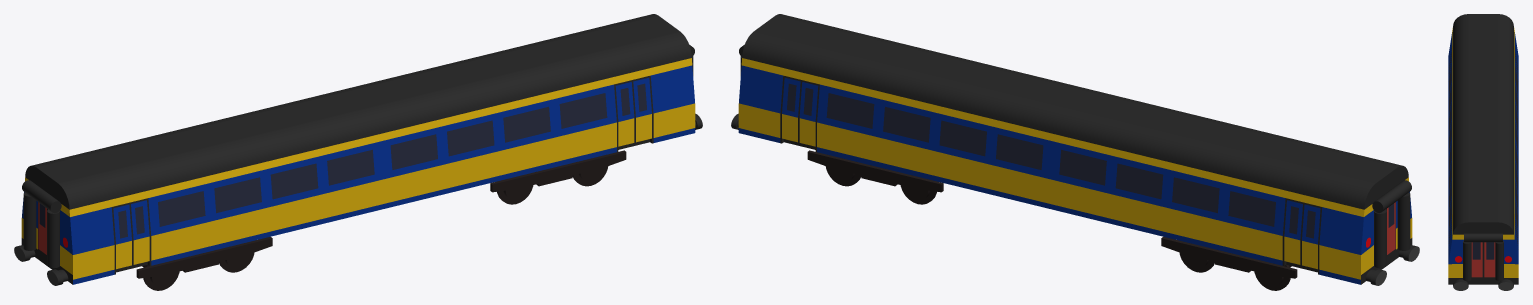
The model's file is poly ICR.obj.
The picture shows the model from 3 angles, left to right: view 1: azimuth 30°, elevation 25°; view 2: azimuth 150°, elevation 25°; view 3: azimuth 270°, elevation 25°; orthographic projection. The views are drawn at different scales.
Visible parts, largest first — view 1: Component_2_ID274, Component_2_ID478, Component_2_ID396, Component_2_ID586, Component_2_ID402, Component_2_ID592, Component_2_ID508, Component_2_ID308, Component_2_ID604, Component_2_ID414, Component_1_ID24, Component_1_ID148 (+21 smaller); view 2: Component_2_ID478, Component_2_ID274, Component_2_ID396, Component_2_ID586, Component_2_ID402, Component_2_ID592, Component_2_ID308, Component_2_ID508, Component_2_ID414, Component_2_ID604, Component_1_ID148, Component_1_ID24 (+21 smaller); view 3: Component_2_ID478, Component_2_ID274, Component_2_ID402, Component_2_ID592, Component_2_ID414, Component_2_ID604, Component_5_ID442, Component_5_ID448, Component_5_ID454, Component_2_ID354, Component_2_ID550, Component_2_ID302 (+21 smaller).
Part boxes in pixels (box(x1,y1,x2,y2)): Component_2_ID274: box(25, 23, 691, 192); Component_2_ID478: box(47, 14, 668, 209); Component_2_ID396: box(384, 122, 616, 203); Component_2_ID586: box(151, 179, 383, 260); Component_2_ID402: box(381, 84, 616, 179); Component_2_ID592: box(148, 141, 383, 235); Component_2_ID508: box(60, 134, 381, 216); Component_2_ID308: box(25, 58, 692, 181); Component_2_ID604: box(60, 207, 114, 254); Component_2_ID414: box(22, 65, 694, 228); Component_1_ID24: box(136, 167, 559, 278); Component_1_ID148: box(204, 150, 626, 264); Component_2_ID478: box(742, 23, 1408, 192); Component_2_ID274: box(765, 14, 1386, 209); Component_2_ID396: box(1050, 179, 1282, 260); Component_2_ID586: box(817, 122, 1049, 203); Component_2_ID402: box(1050, 141, 1285, 235); Component_2_ID592: box(817, 84, 1052, 179); Component_2_ID308: box(1052, 134, 1373, 216); Component_2_ID508: box(741, 58, 1408, 181); Component_2_ID414: box(1319, 207, 1373, 254); Component_2_ID604: box(739, 65, 1411, 228); Component_1_ID148: box(874, 167, 1297, 278); Component_1_ID24: box(807, 150, 1229, 264); Component_2_ID478: box(1453, 14, 1513, 234); Component_2_ID274: box(1453, 14, 1513, 234); Component_2_ID402: box(1448, 58, 1518, 237); Component_2_ID592: box(1448, 58, 1518, 237); Component_2_ID414: box(1448, 32, 1518, 264); Component_2_ID604: box(1448, 32, 1518, 264); Component_5_ID442: box(1464, 233, 1502, 242); Component_5_ID448: box(1495, 241, 1503, 280); Component_5_ID454: box(1463, 241, 1471, 280); Component_2_ID354: box(1471, 242, 1482, 277); Component_2_ID550: box(1484, 242, 1495, 277); Component_2_ID302: box(1448, 46, 1518, 284).
Bounding box in the file's own units: 12.45 × 2.31 × 1.71.
